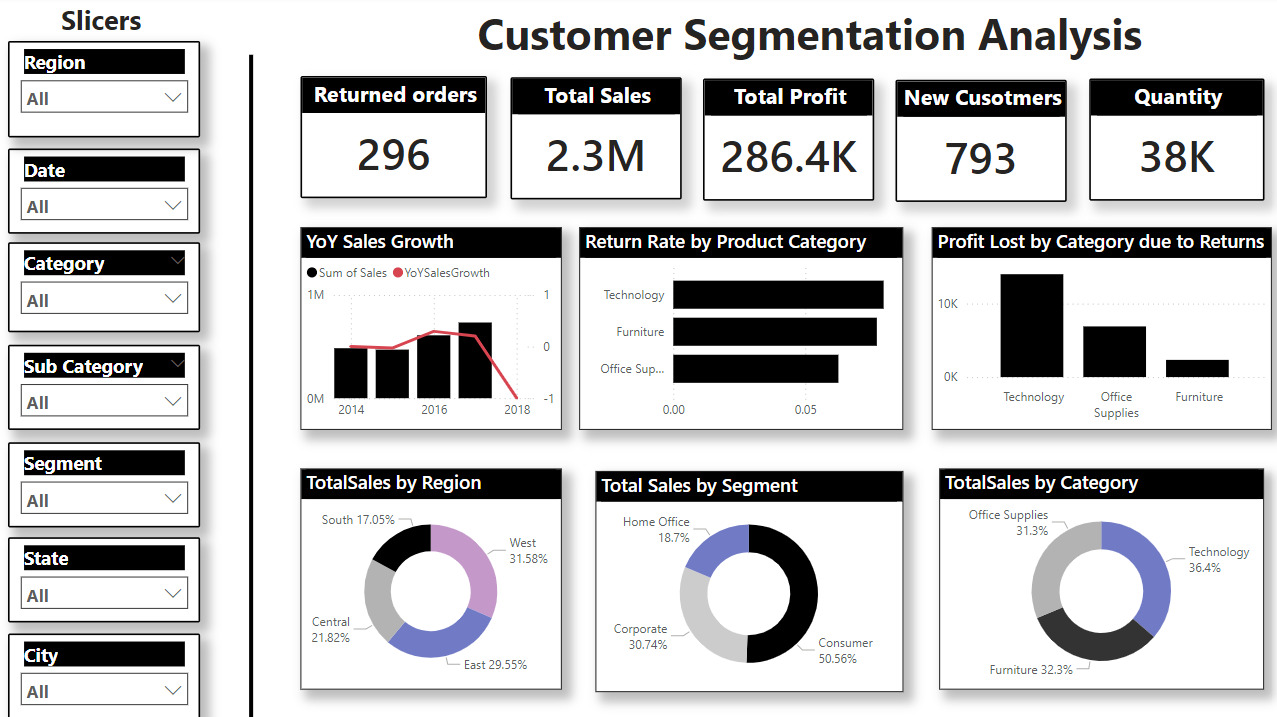

What the dashboard file says about the page in this screenshot:
{"tool":"powerbi","page":{"name":"Page 1","canvas":[1280,720],"ordinal":0},"visuals":[{"type":"card","title":"Quantity","fields":{"Values":["new measures.TotalQuantity"]},"box":[1091,105.7,174.2,121.9],"z":0},{"type":"card","title":"New Cusotmers","fields":{"Values":["new measures.DistinctCustomers"]},"box":[896.9,105.7,170.4,121.9],"z":1000},{"type":"lineStackedColumnComboChart","title":"YoY Sales Growth ","fields":{"Y":["Sum(Orders.Sales)"],"Category":["DimDate.date.Variation.Date Hierarchy.Year","DimDate.date.Variation.Date Hierarchy.Quarter","DimDate.date.Variation.Date Hierarchy.Month","DimDate.date.Variation.Date Hierarchy.Day"],"Y2":["new measures.YoYSalesGrowth"]},"box":[306,258.7,260,201.5],"z":2000},{"type":"card","title":"Total Profit","fields":{"Values":["Sum(Orders.Profit)"]},"box":[705.3,105.7,170.4,121.9],"z":3000},{"type":"card","title":"Total Sales","fields":{"Values":["new measures.TotalSales"]},"box":[512.5,105.7,170.4,121.9],"z":4000},{"type":"barChart","title":"Return Rate by Product Category","fields":{"Category":["Orders.Category"],"Y":["new measures.ReturnRate"]},"box":[583.4,258.7,350.8,201.5],"z":5000},{"type":"clusteredColumnChart","title":"Profit Lost  due to Returns","fields":{"Category":["Orders.Category"],"Y":["new measures.ProfitLost"]},"box":[952.9,258.7,312.2,201.5],"z":6000},{"type":"card","title":"Returned orders","fields":{"Values":["new measures.TotalReturnedOrders"]},"box":[306,105.7,185.3,121.9],"z":7000},{"type":"donutChart","fields":{"Category":["Orders.Region"],"Y":["new measures.TotalSales"]},"box":[306,486.4,260,220.2],"z":8000},{"type":"slicer","fields":{"Values":["DimDate.date.Variation.Date Hierarchy.Year","DimDate.date.Variation.Date Hierarchy.Quarter","DimDate.date.Variation.Date Hierarchy.Month","DimDate.date.Variation.Date Hierarchy.Day"]},"box":[14.9,151.8,191.6,84.6],"z":9000},{"type":"slicer","fields":{"Values":["Orders.Category"]},"box":[14.9,245.1,191.6,89.6],"z":10000},{"type":"slicer","fields":{"Values":["Orders.Sub-Category"]},"box":[14.9,347.1,191.6,84.6],"z":11000},{"type":"slicer","fields":{"Values":["Orders.Segment"]},"box":[14.9,444.1,191.6,84.6],"z":12000},{"type":"slicer","fields":{"Values":["Orders.State"]},"box":[14.9,538.6,191.6,84.6],"z":13000},{"type":"slicer","fields":{"Values":["Orders.City"]},"box":[14.9,634.4,191.6,84.6],"z":14000},{"type":"slicer","title":"Region","fields":{"Values":["Orders.Region"]},"box":[14.9,48.5,191.6,95.8],"z":15000},{"type":"shape","box":[90.8,67.2,323.4,643.1],"z":16000},{"type":"textbox","box":[306,6.2,959.1,77.1],"z":17000},{"type":"textbox","box":[14.9,0,191.6,51],"z":18000},{"type":"map","title":"Geographic Distribution of Customers","fields":{"Category":["Orders.City"],"Series":["Orders.Region"],"Size":["CountNonNull(Orders.Customer ID)"]},"box":[583.4,490.1,350.8,220.2],"z":19000},{"type":"donutChart","title":"Avg Order value by Region","fields":{"Category":["Orders.Region"],"Y":["new measures.Average Order value per Order"]},"box":[952.9,491.4,312.2,218.9],"z":21000}]}

Visuals, with their boxes in screenshot pixels (x1, y1, x2, y2), scaled from the page's 1280x720 canvas onto the 1277x717 screenshot:
"Quantity" card: 1088 105 1262 227
"New Cusotmers" card: 895 105 1065 227
"YoY Sales Growth " lineStackedColumnComboChart: 305 258 565 458
"Total Profit" card: 704 105 874 227
"Total Sales" card: 511 105 681 227
"Return Rate by Product Category" barChart: 582 258 932 458
"Profit Lost  due to Returns" clusteredColumnChart: 951 258 1262 458
"Returned orders" card: 305 105 490 227
donutChart - Orders.Region x new measures.TotalSales: 305 484 565 704
slicer - DimDate.date.Variation.Date Hierarchy.Year x DimDate.date.Variation.Date Hierarchy.Quarter: 15 151 206 235
slicer - Orders.Category: 15 244 206 333
slicer - Orders.Sub-Category: 15 346 206 430
slicer - Orders.Segment: 15 442 206 526
slicer - Orders.State: 15 536 206 621
slicer - Orders.City: 15 632 206 716
"Region" slicer: 15 48 206 144
shape: 91 67 413 707
textbox: 305 6 1262 83
textbox: 15 0 206 51
"Geographic Distribution of Customers" map: 582 488 932 707
"Avg Order value by Region" donutChart: 951 489 1262 707
